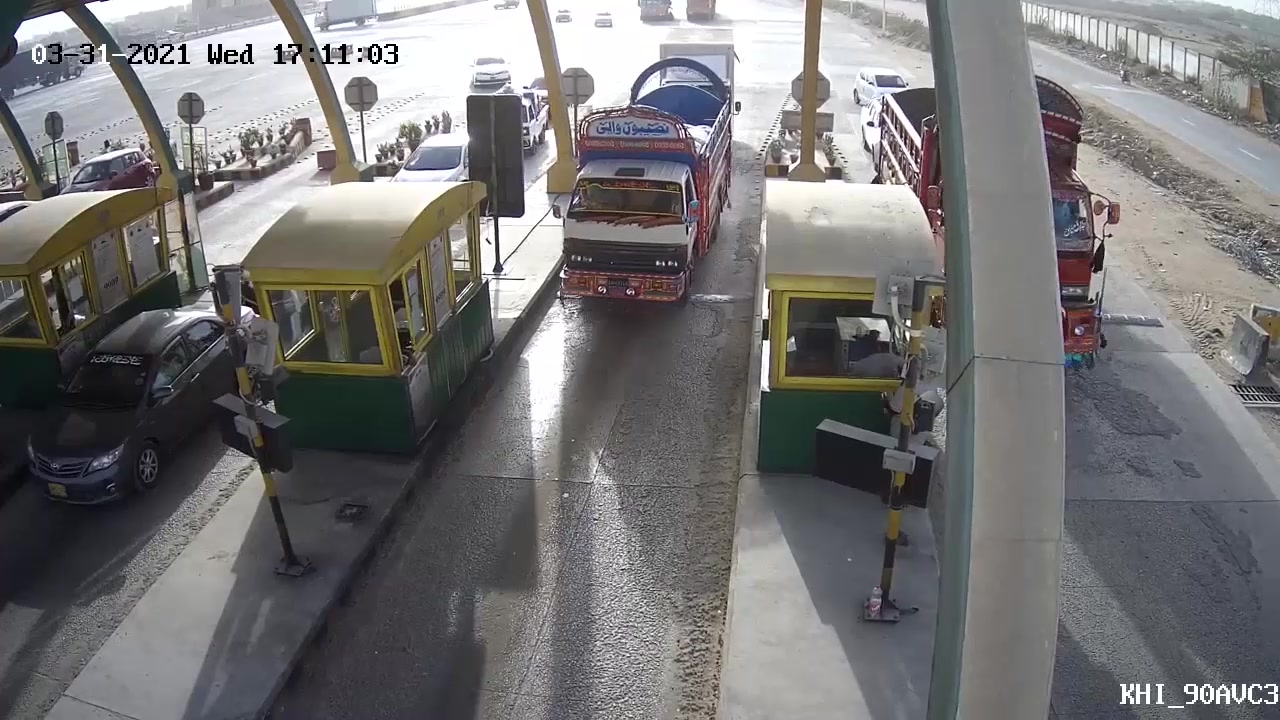F5: (543, 70, 743, 327)
